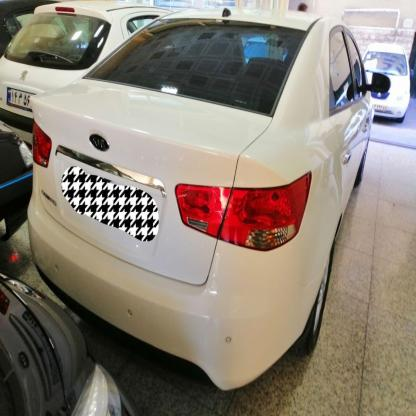Car: (31, 0, 374, 393), (0, 0, 145, 131), (351, 46, 416, 129)
